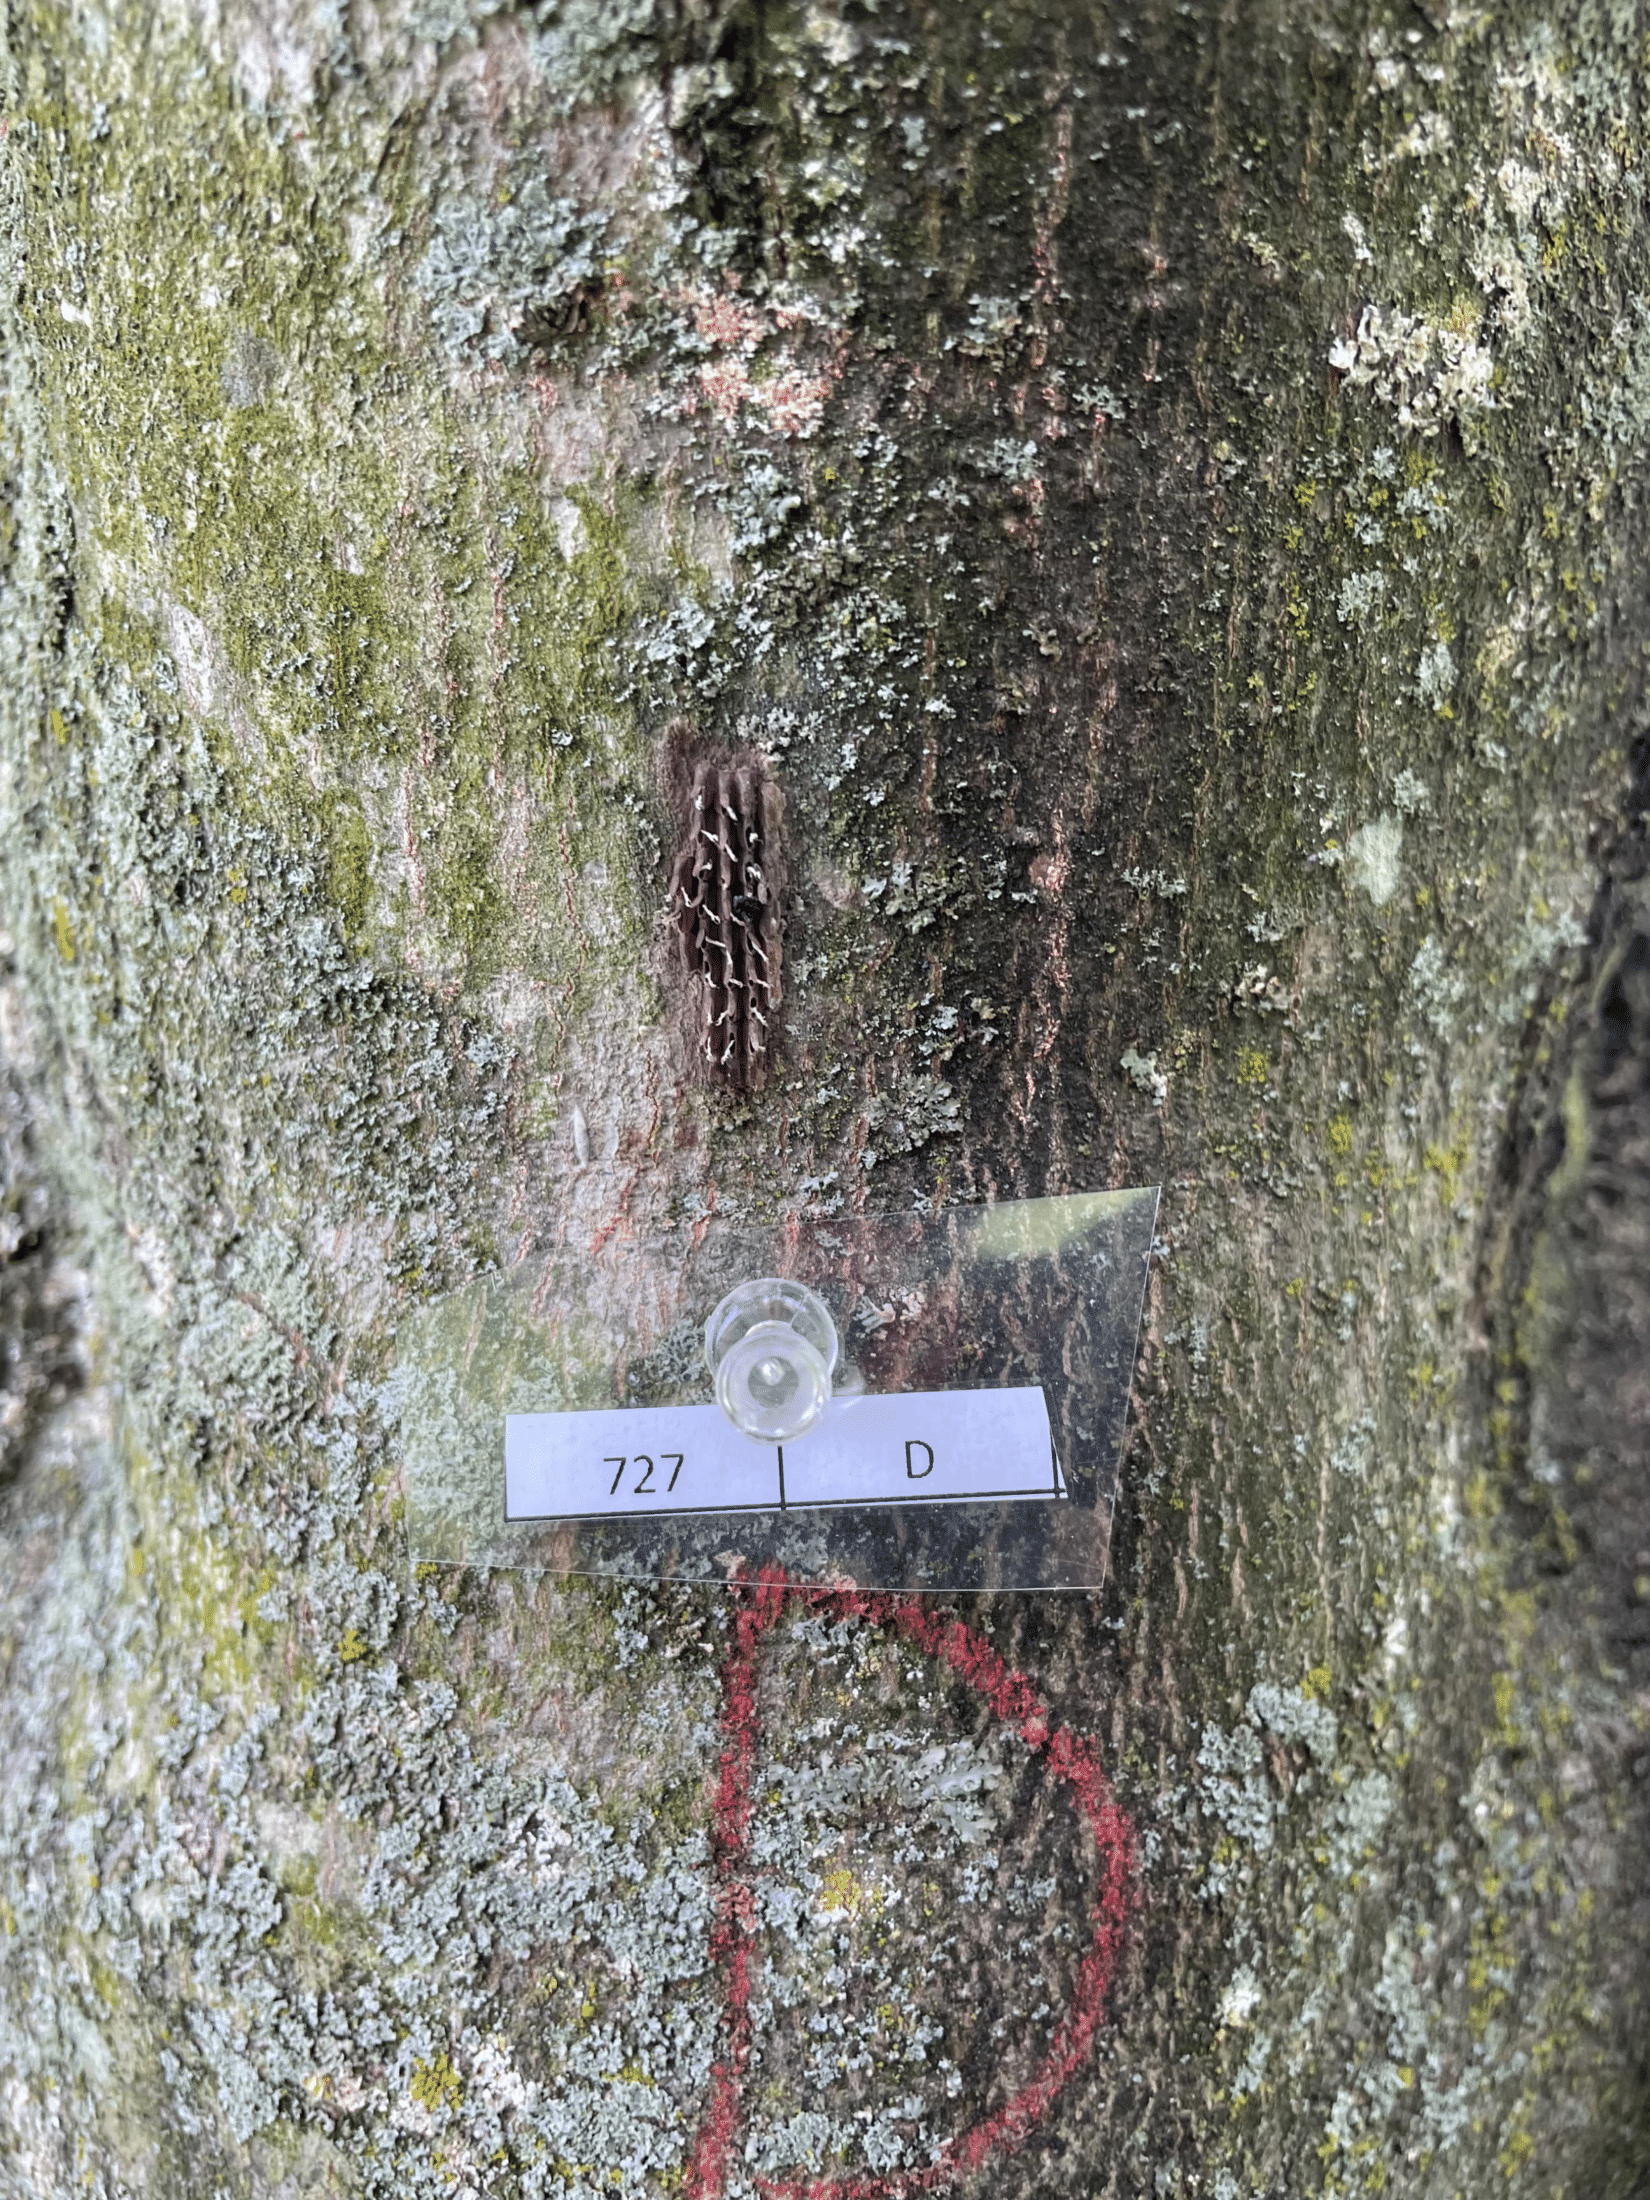egg masses: (660, 715, 830, 1103)
